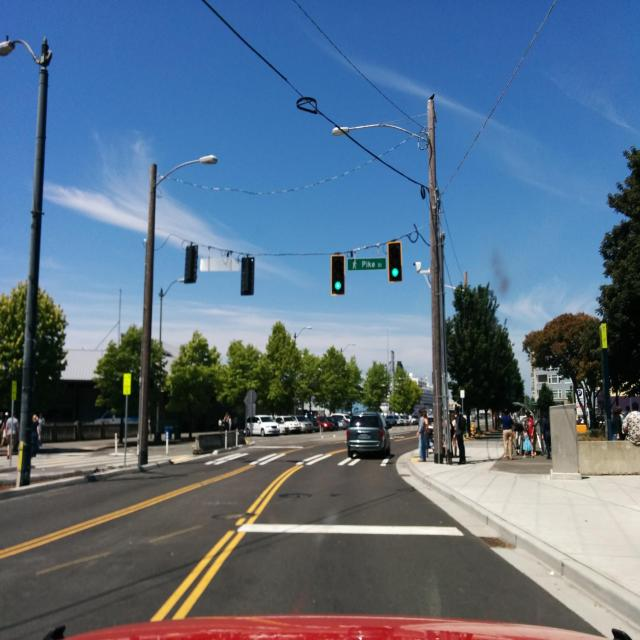Good: (210, 509, 255, 523), (275, 490, 313, 500)
